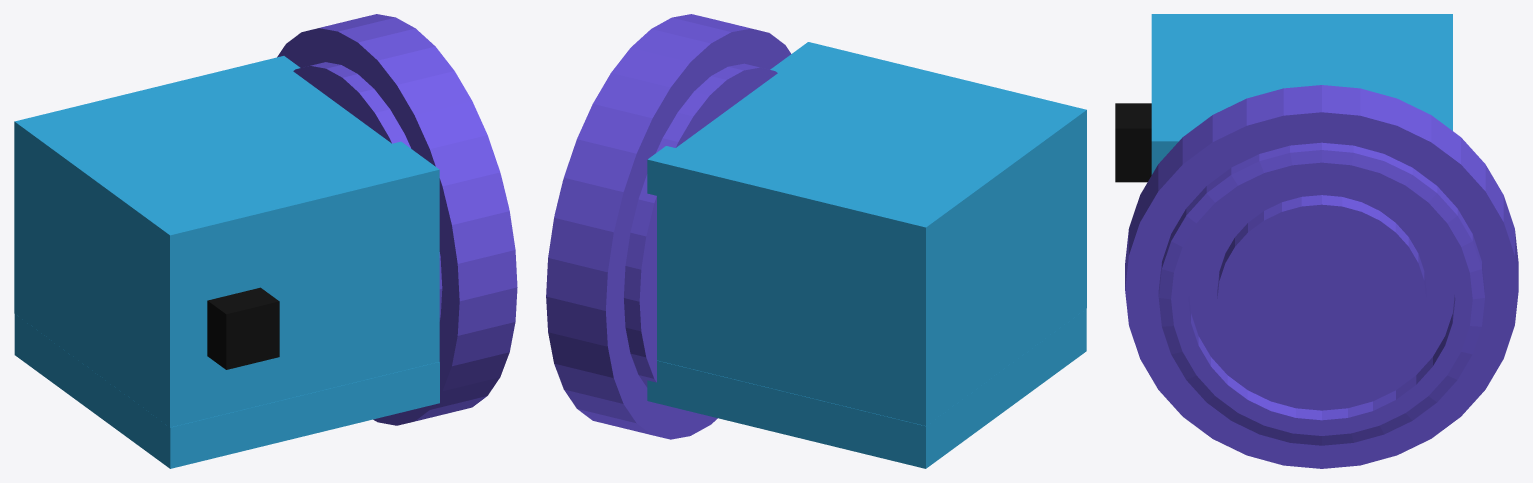
File: Character-1.glb
The picture shows the model from 3 angles, left to right: view 1: azimuth 30°, elevation 25°; view 2: azimuth 150°, elevation 25°; view 3: azimuth 270°, elevation 25°; orthographic projection. The views are drawn at different scales.
Visible parts, largest first — view 1: Cube, Circle, Cube.001; view 2: Cube, Circle; view 3: Circle, Cube, Cube.001.
Boxes of the visible parts, x1=… form: Cube: x1=14, y1=56, x2=439, y2=468; Circle: x1=277, y1=14, x2=517, y2=425; Cube.001: x1=207, y1=287, x2=279, y2=369; Cube: x1=647, y1=42, x2=1086, y2=468; Circle: x1=546, y1=14, x2=790, y2=439; Circle: x1=1125, y1=85, x2=1518, y2=468; Cube: x1=1151, y1=14, x2=1452, y2=174; Cube.001: x1=1115, y1=103, x2=1151, y2=182.
Bounding box in the file's own units: 2.61 × 2.61 × 2.68.
